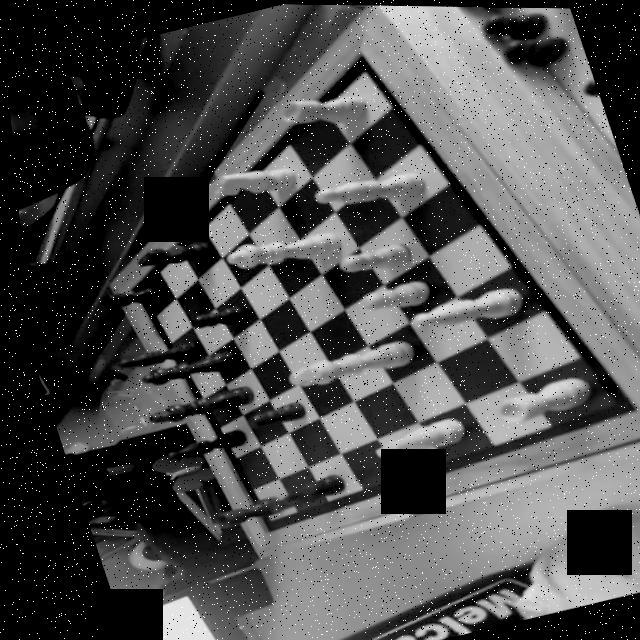chess-table-corners: (331, 42, 377, 72), (603, 392, 640, 425), (240, 521, 270, 541), (108, 280, 134, 299)
